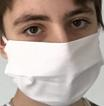with_mask: (1, 1, 104, 106)
